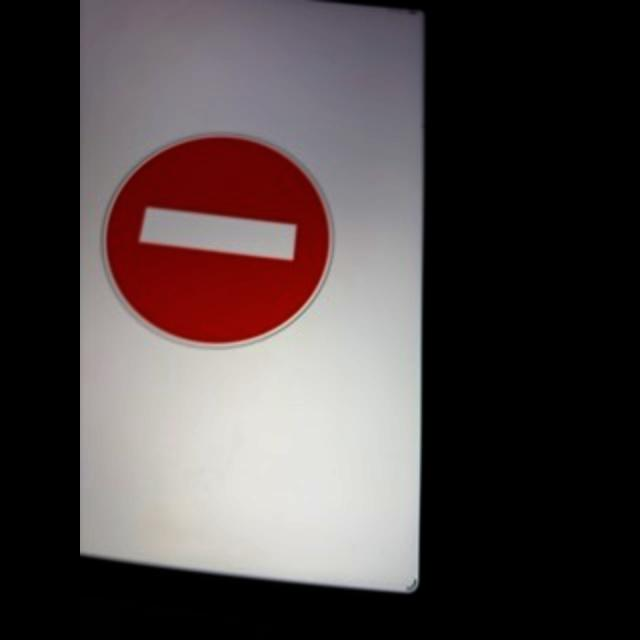NO ENTRY: (100, 133, 334, 355)
